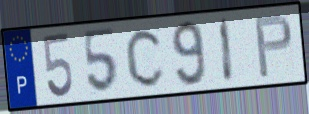5: (81, 25, 121, 96), (41, 31, 74, 99)
9: (169, 18, 209, 89)
C: (124, 26, 167, 90)
I: (218, 16, 237, 85)
P: (252, 12, 294, 80)
